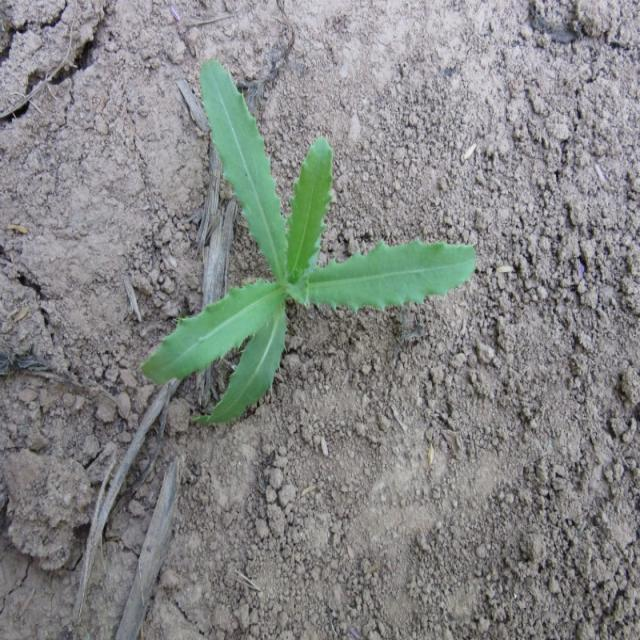field_thistle: (161, 58, 474, 417)
